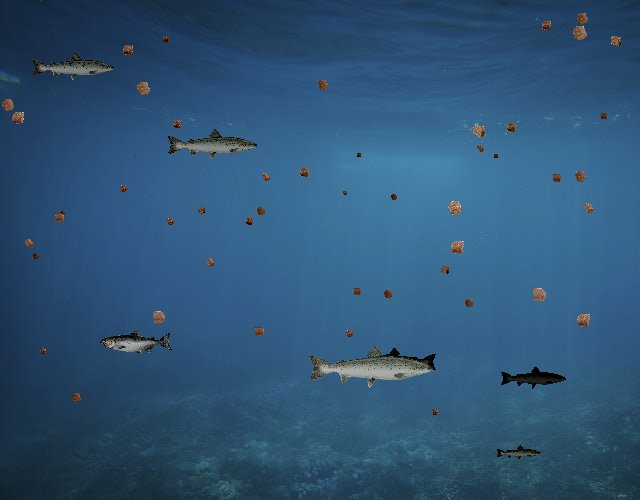Fish: (306, 343, 435, 389), (165, 128, 259, 162), (30, 51, 116, 82), (357, 347, 438, 376), (100, 329, 173, 355), (499, 365, 567, 390), (495, 445, 542, 462)
Pellet: (443, 233, 472, 262), (569, 307, 597, 335), (465, 117, 492, 144), (568, 164, 592, 188), (294, 163, 315, 184), (459, 294, 478, 313), (341, 326, 358, 343), (36, 344, 50, 358)
